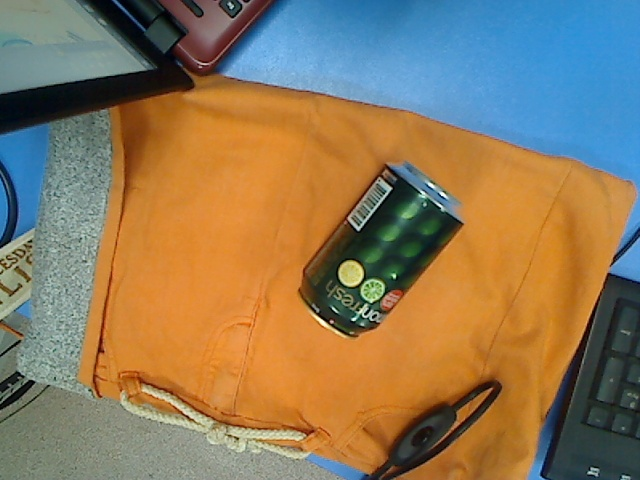can: (293, 159, 465, 341)
